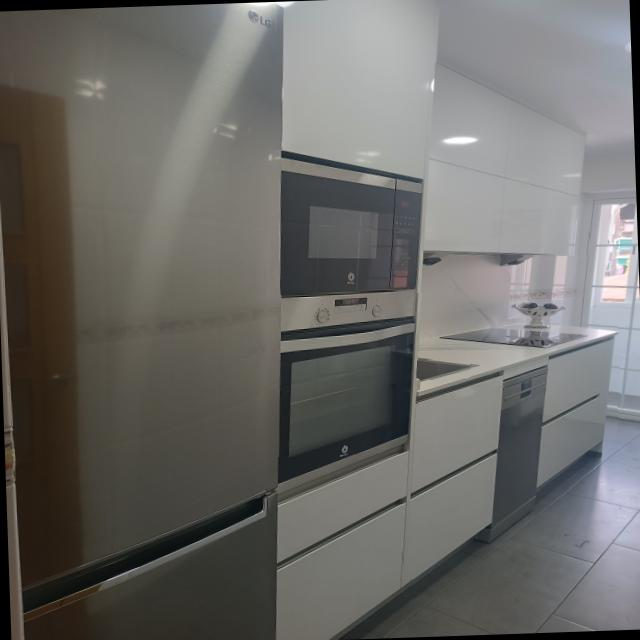cabinet: (423, 63, 586, 255), (281, 0, 438, 180), (276, 452, 408, 640), (403, 372, 503, 579), (536, 335, 615, 489)
countertop: (416, 326, 618, 403)
fridge: (0, 1, 343, 640)
microwave: (280, 151, 423, 297)
oven: (279, 290, 416, 483)
shower: (417, 360, 470, 380)
sofa: (439, 329, 587, 348)
